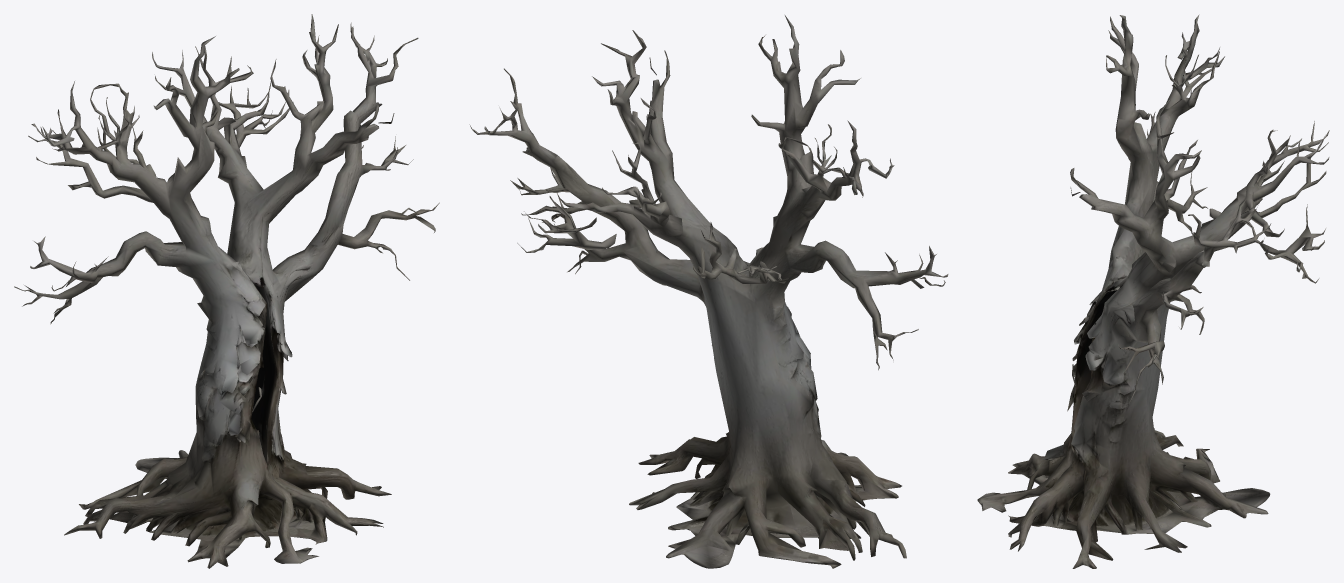
Rendered from deadoak.opt.glb.
The picture shows the model from 3 angles, left to right: view 1: azimuth 30°, elevation 25°; view 2: azimuth 150°, elevation 25°; view 3: azimuth 270°, elevation 25°; orthographic projection. The views are drawn at different scales.
Parts seen in each view (by area): view 1: node_0; view 2: node_0; view 3: node_0.
Boxes of the visible parts, bbox=[...] form: node_0: bbox=[14, 14, 439, 568]; node_0: bbox=[469, 15, 948, 568]; node_0: bbox=[977, 14, 1329, 568].
Bounding box in the file's own units: 0.8633 × 0.9699 × 0.6441.
Materials: 1 (1 with a texture image).
